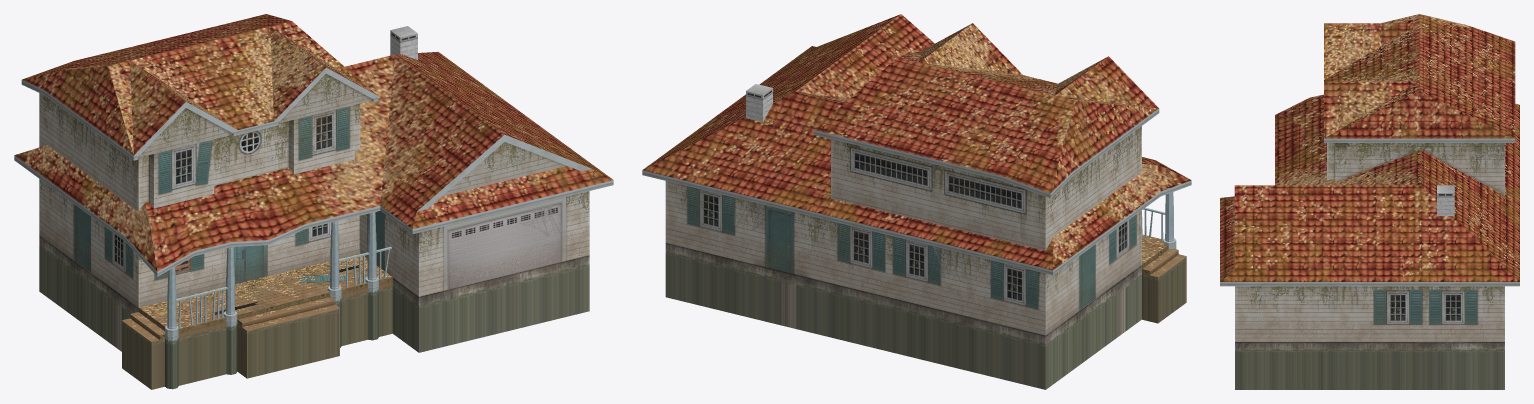
File: House 2a - Separated.fbx
3 renders of one model, left to right at view 1: azimuth 30°, elevation 25°; view 2: azimuth 150°, elevation 25°; view 3: azimuth 270°, elevation 25°, orthographic. The views are drawn at different scales.
Visible parts, largest first — view 1: House 2a, Door_Garage_Roller, Door_Front, Door_Side; view 2: House 2a, Door_Back, Door_Side; view 3: House 2a.
Part boxes in pixels (<box>): House 2a: <box>14,14,613,389</box>; Door_Garage_Roller: <box>448,202,561,288</box>; Door_Front: <box>236,245,263,283</box>; Door_Side: <box>76,206,88,270</box>; House 2a: <box>642,14,1191,389</box>; Door_Back: <box>769,210,790,272</box>; Door_Side: <box>1081,246,1093,308</box>; House 2a: <box>1220,14,1519,389</box>.
Bounding box in the file's own units: 5.69 × 3.29 × 4.07.
